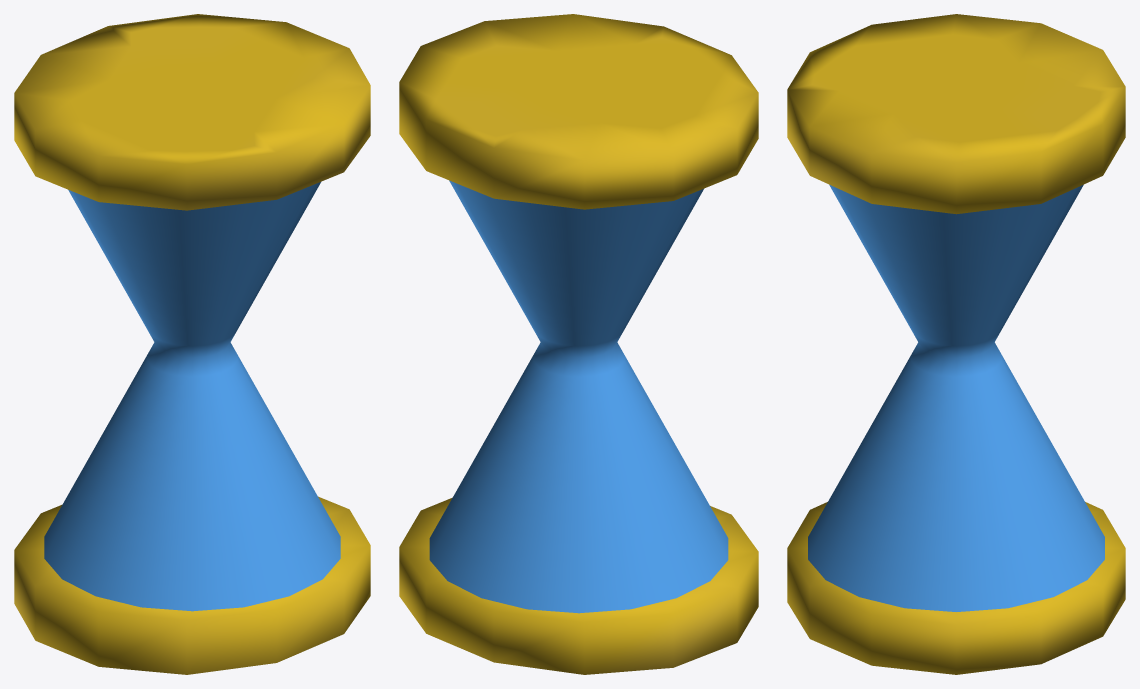
The model's file is sablier toon.glb.
3 renders of one model, left to right at view 1: azimuth 30°, elevation 25°; view 2: azimuth 150°, elevation 25°; view 3: azimuth 270°, elevation 25°, orthographic.
Parts seen in each view (by area): view 1: Cylinder (×2), Cone; view 2: Cylinder (×2), Cone; view 3: Cylinder (×2), Cone.
Part boxes in pixels (box(x1,y1,x2,y2)): Cylinder (×2): box(14, 14, 370, 674); Cone: box(44, 182, 340, 611); Cylinder (×2): box(399, 14, 758, 674); Cone: box(429, 180, 728, 613); Cylinder (×2): box(787, 14, 1125, 674); Cone: box(808, 185, 1104, 611).
Size of the model in its own units: 0.2956 by 0.4643 by 0.275.
